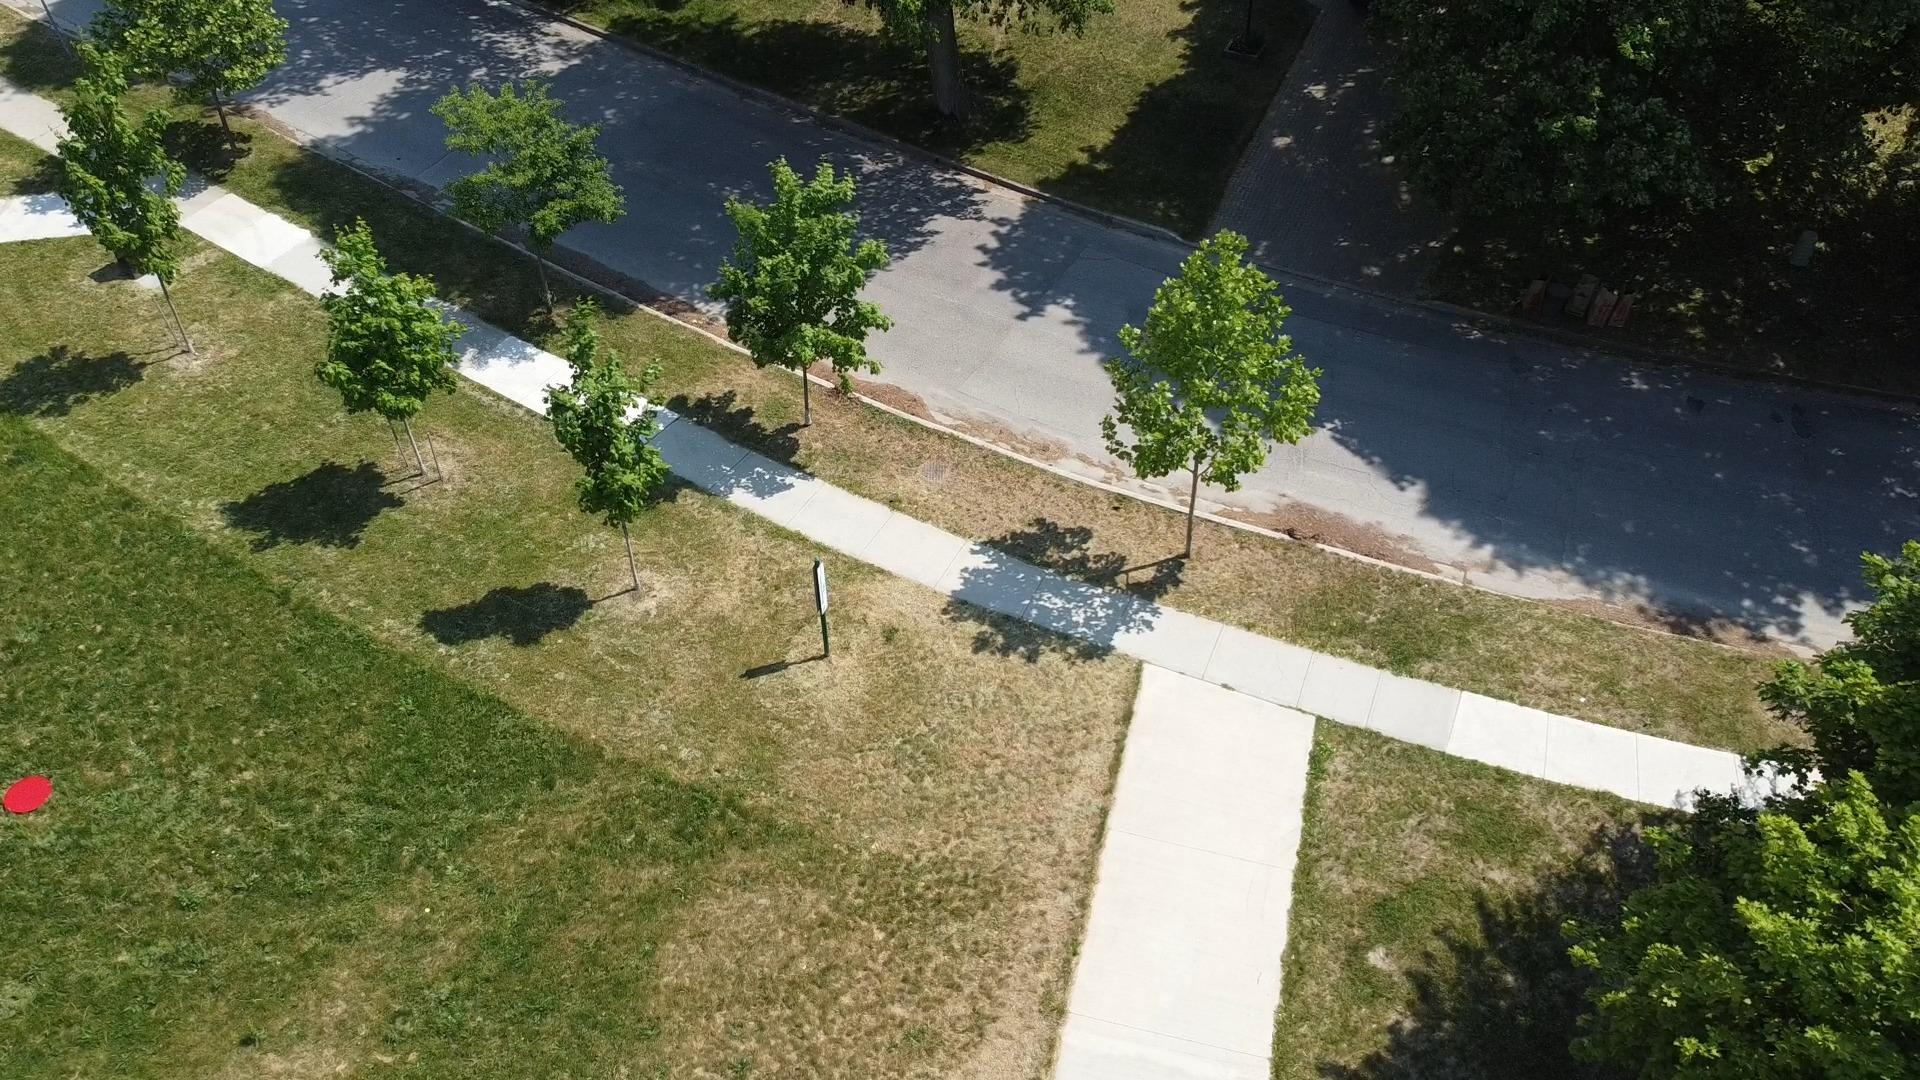Red: (1, 775, 54, 815)
